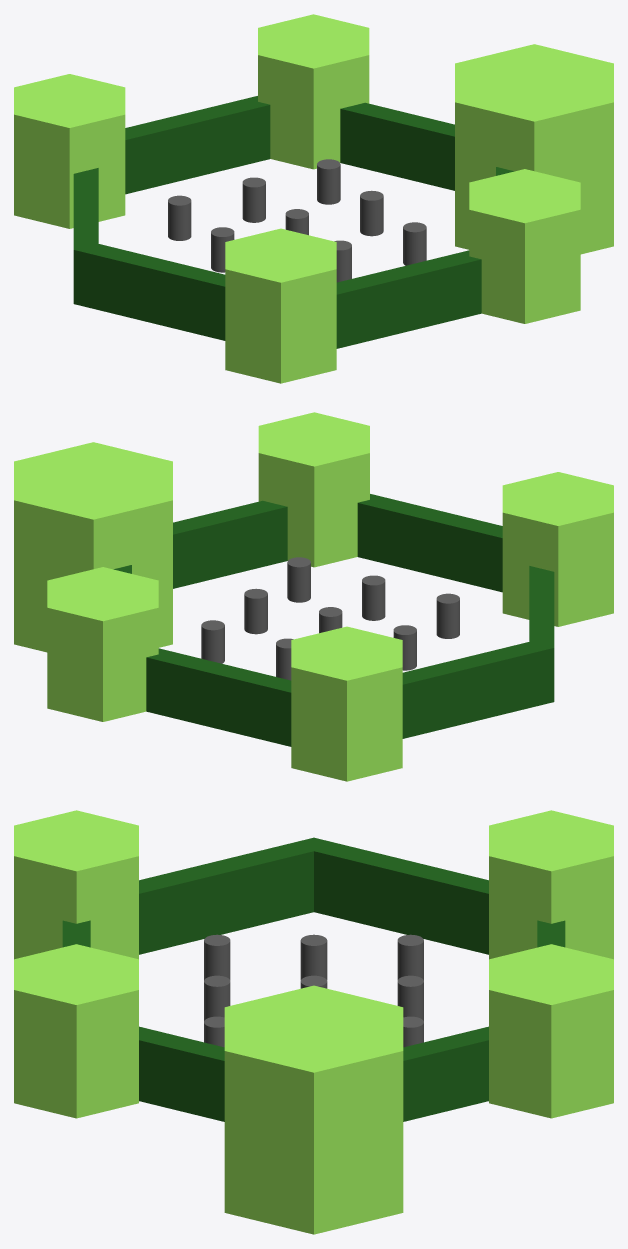
File: turtlebot_env.dae
The picture shows the model from 3 angles, top to bottom: view 1: azimuth 30°, elevation 25°; view 2: azimuth 150°, elevation 25°; view 3: azimuth 270°, elevation 25°; orthographic projection. The views are drawn at different scales.
Parts seen in each view (by area): view 1: Wall, head, right_foot, right_hand, left_foot, left_hand, three_three, two_three, three_two, one_three, three_one, one_two (+2 smaller); view 2: Wall, head, left_foot, left_hand, right_foot, right_hand, three_one, two_one, three_two, one_one, three_three, one_two (+2 smaller); view 3: head, Wall, right_hand, left_hand, right_foot, left_foot, one_two, one_three, one_one, two_three, two_one, three_three (+1 smaller).
Part boxes in pixels (bbox=[...]): Wall: bbox=[73, 96, 514, 348]; head: bbox=[455, 44, 613, 254]; right_foot: bbox=[225, 228, 336, 383]; right_hand: bbox=[469, 169, 580, 323]; left_foot: bbox=[14, 74, 125, 228]; left_hand: bbox=[258, 14, 369, 169]; three_three: bbox=[317, 159, 340, 204]; two_three: bbox=[242, 177, 265, 222]; three_two: bbox=[360, 190, 383, 236]; one_three: bbox=[168, 195, 191, 240]; three_one: bbox=[403, 222, 426, 265]; one_two: bbox=[211, 227, 234, 272]; Wall: bbox=[113, 494, 554, 746]; head: bbox=[14, 442, 172, 652]; left_foot: bbox=[291, 626, 402, 781]; left_hand: bbox=[47, 567, 158, 721]; right_foot: bbox=[502, 472, 613, 626]; right_hand: bbox=[258, 412, 369, 567]; three_one: bbox=[287, 557, 310, 602]; two_one: bbox=[362, 575, 385, 620]; three_two: bbox=[244, 588, 267, 634]; one_one: bbox=[436, 593, 459, 638]; three_three: bbox=[201, 620, 224, 663]; one_two: bbox=[393, 625, 416, 670]; head: bbox=[224, 985, 403, 1234]; Wall: bbox=[62, 837, 565, 1121]; right_hand: bbox=[14, 944, 138, 1118]; left_hand: bbox=[489, 944, 613, 1118]; right_foot: bbox=[14, 810, 138, 959]; left_foot: bbox=[489, 810, 613, 959]; one_two: bbox=[300, 934, 327, 980]; one_three: bbox=[397, 934, 423, 980]; one_one: bbox=[204, 934, 230, 980]; two_three: bbox=[397, 975, 423, 1020]; two_one: bbox=[204, 975, 230, 1020]; three_three: bbox=[403, 1016, 423, 1047].
Bounding box in the file's own units: 7.97 × 6.82 × 2.03.
